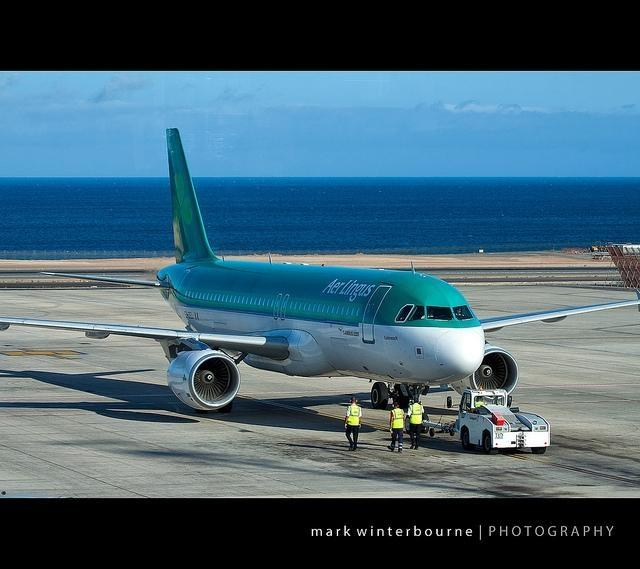truck: (457, 388, 551, 456)
